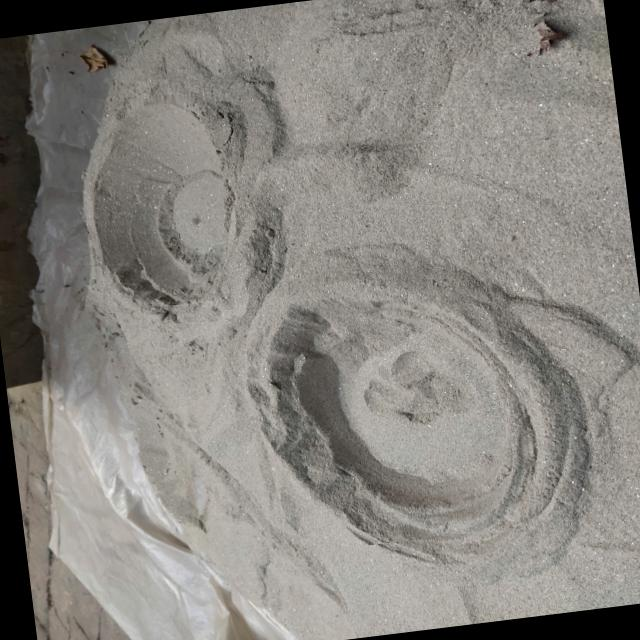C20: (289, 300, 529, 537), (93, 98, 230, 306)
